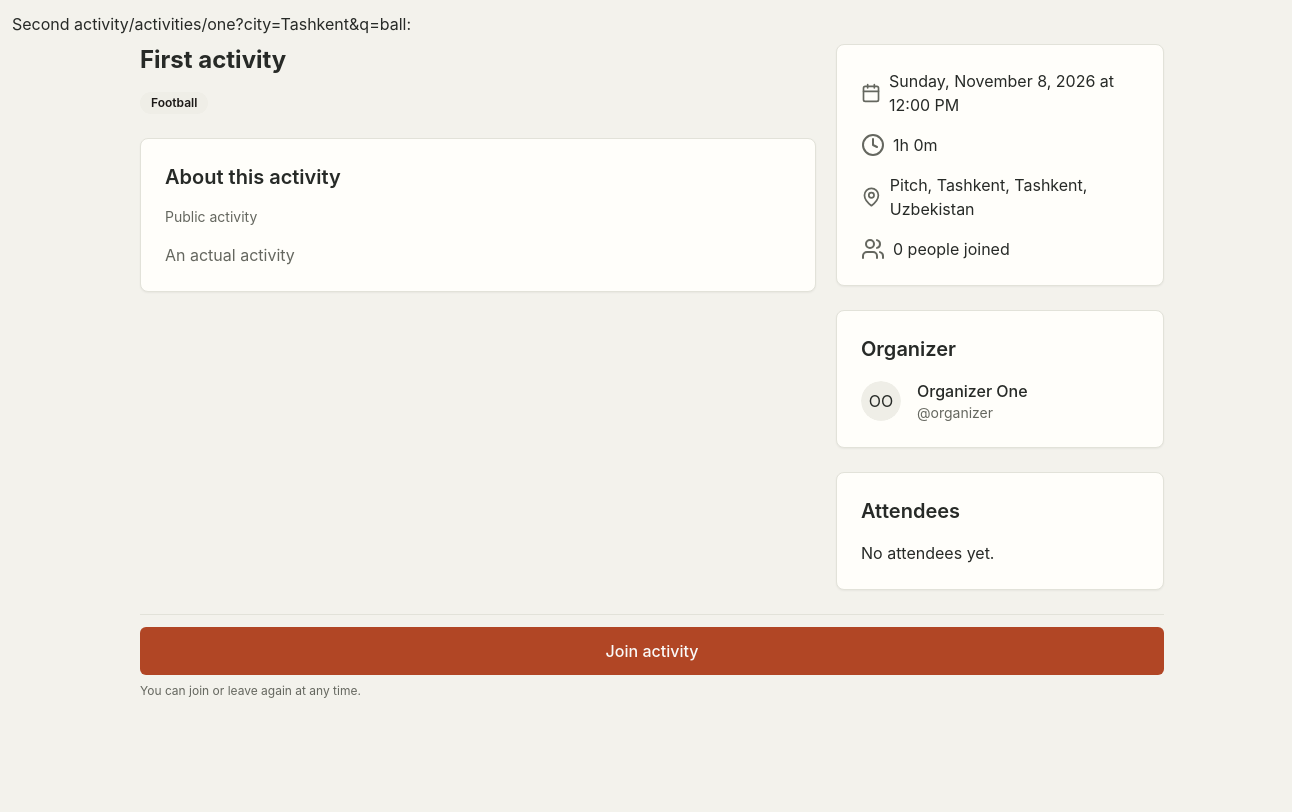
Test: keeps membership unchanged after failure and allows retry
Click the button "Join activity" at (652, 651), box [140,627,1164,675]
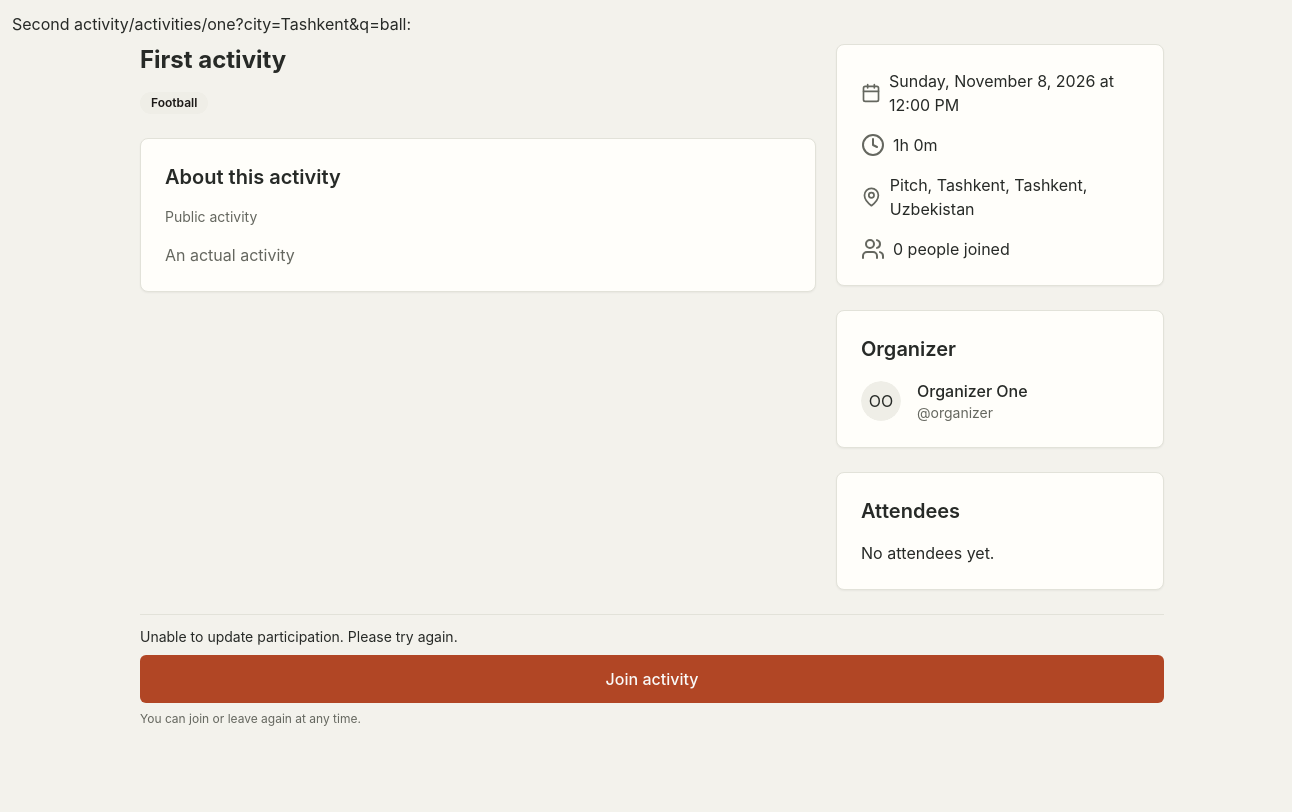
Expected: the text "0 people joined" is shown, [893,237,1010,261]
Expected: the message "Unable to update participation. Please try again." is shown, [140,628,458,645]
Click the button "Join activity" at (652, 679), box [140,655,1164,703]
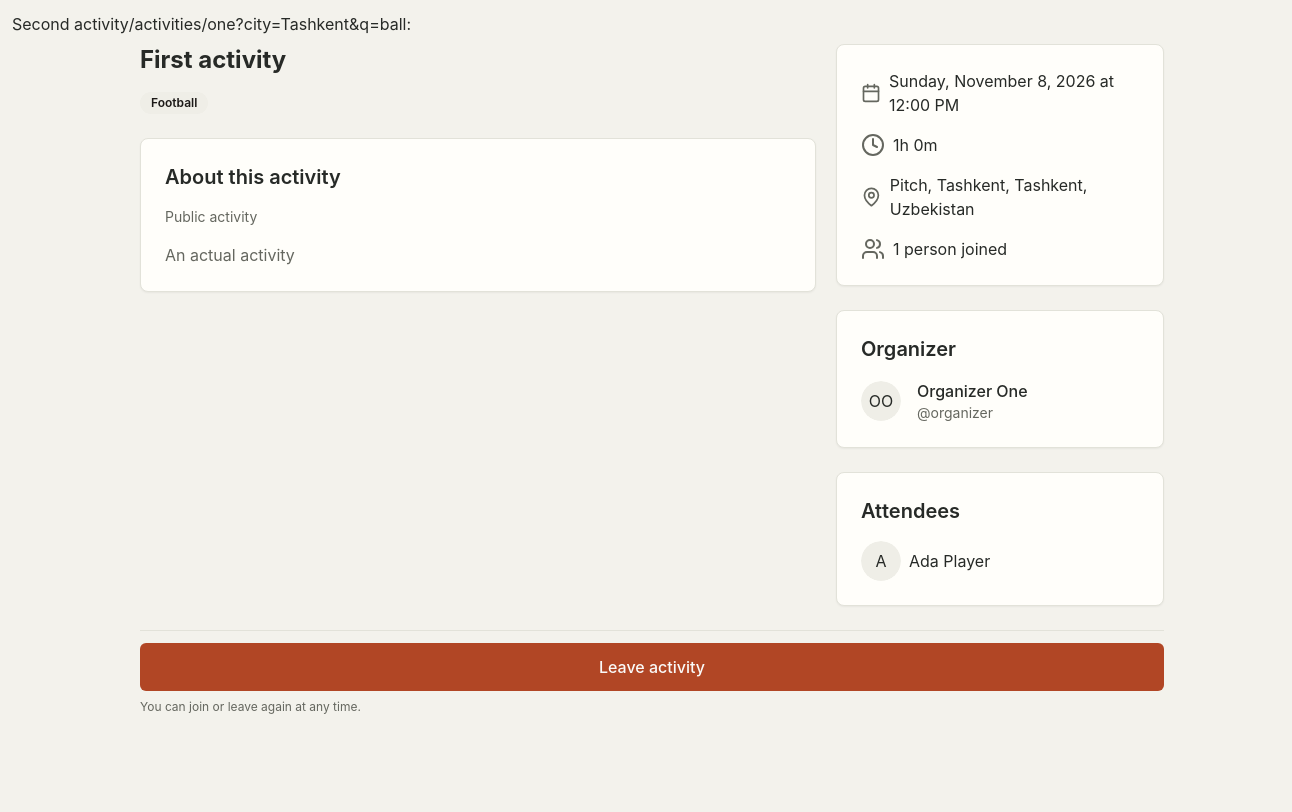
Expected: the button "Leave activity" is shown, [140,643,1164,691]
Expected: the message "Unable to update participation. Please try again." is gone
